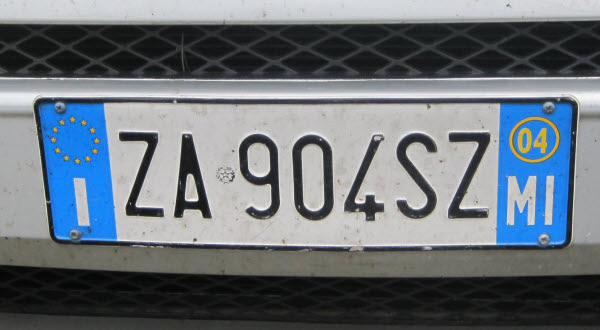license_plate: (34, 96, 579, 252)
